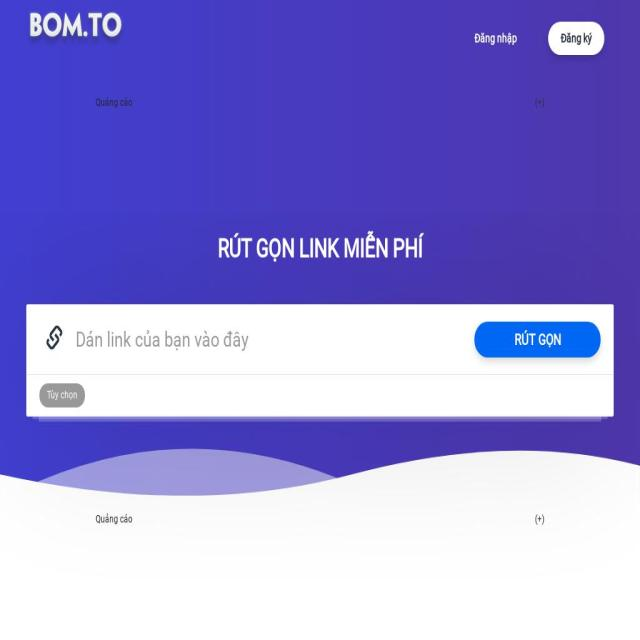button: (17, 9, 134, 51), (474, 322, 600, 358), (462, 22, 529, 55), (548, 22, 604, 55), (39, 383, 85, 408), (532, 508, 547, 531), (532, 92, 547, 114)
field: (70, 322, 456, 358)
heading: (26, 235, 614, 263), (26, 9, 125, 48)
iframe: (92, 114, 548, 189), (92, 531, 548, 606)
image: (0, 372, 640, 501)
link: (535, 96, 544, 110), (535, 512, 544, 526)
text: (96, 96, 132, 110), (96, 512, 132, 526)
